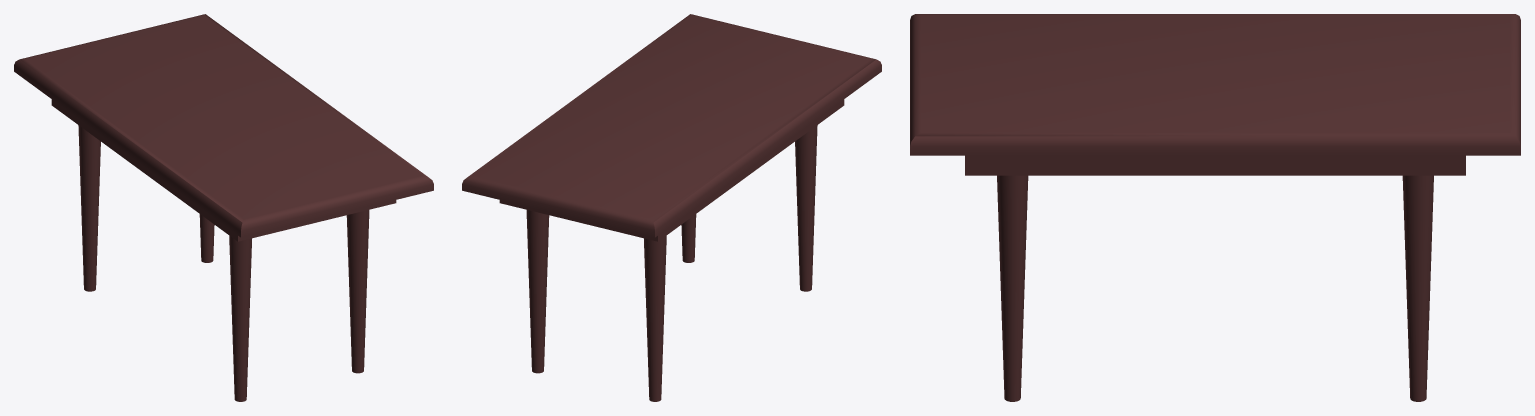
The model's file is table.fbx.
3 views of the same model, side by side, from view 1: azimuth 30°, elevation 25°; view 2: azimuth 150°, elevation 25°; view 3: azimuth 270°, elevation 25° (orthographic). The views are drawn at different scales.
Visible parts, largest first — view 1: Cube, Cylinder; view 2: Cube, Cylinder; view 3: Cube, Cylinder.
Part boxes in pixels (x1,y1,x2,y2): Cube: [14, 14, 433, 241]; Cylinder: [78, 125, 369, 401]; Cube: [462, 14, 881, 241]; Cylinder: [526, 125, 817, 401]; Cube: [910, 14, 1520, 175]; Cylinder: [997, 175, 1433, 401].
Bounding box in the file's own units: 86.95 × 91.57 × 177.
